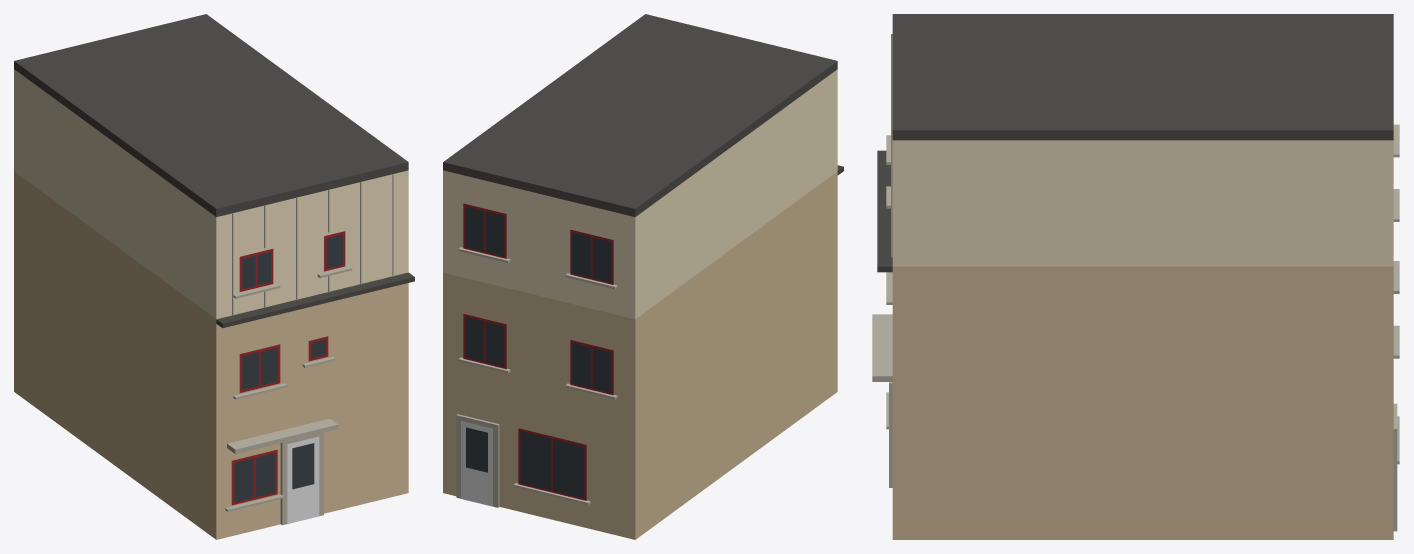
The model's file is nw-ma-clad-top__buff__3__flat__long__solid__f0d0.glb.
3 renders of one model, left to right at view 1: azimuth 30°, elevation 25°; view 2: azimuth 150°, elevation 25°; view 3: azimuth 270°, elevation 25°, orthographic. The views are drawn at different scales.
Parts seen in each view (by area): view 1: nw-ma-clad-top__buff__3__flat__long__solid__f0d0; view 2: nw-ma-clad-top__buff__3__flat__long__solid__f0d0; view 3: nw-ma-clad-top__buff__3__flat__long__solid__f0d0.
Boxes of the visible parts, x1,y1,x2,y2 form: nw-ma-clad-top__buff__3__flat__long__solid__f0d0: [14, 14, 414, 539]; nw-ma-clad-top__buff__3__flat__long__solid__f0d0: [443, 14, 843, 539]; nw-ma-clad-top__buff__3__flat__long__solid__f0d0: [872, 14, 1399, 539].
Bounding box in the file's own units: 5.41 × 8.9 × 10.38.
